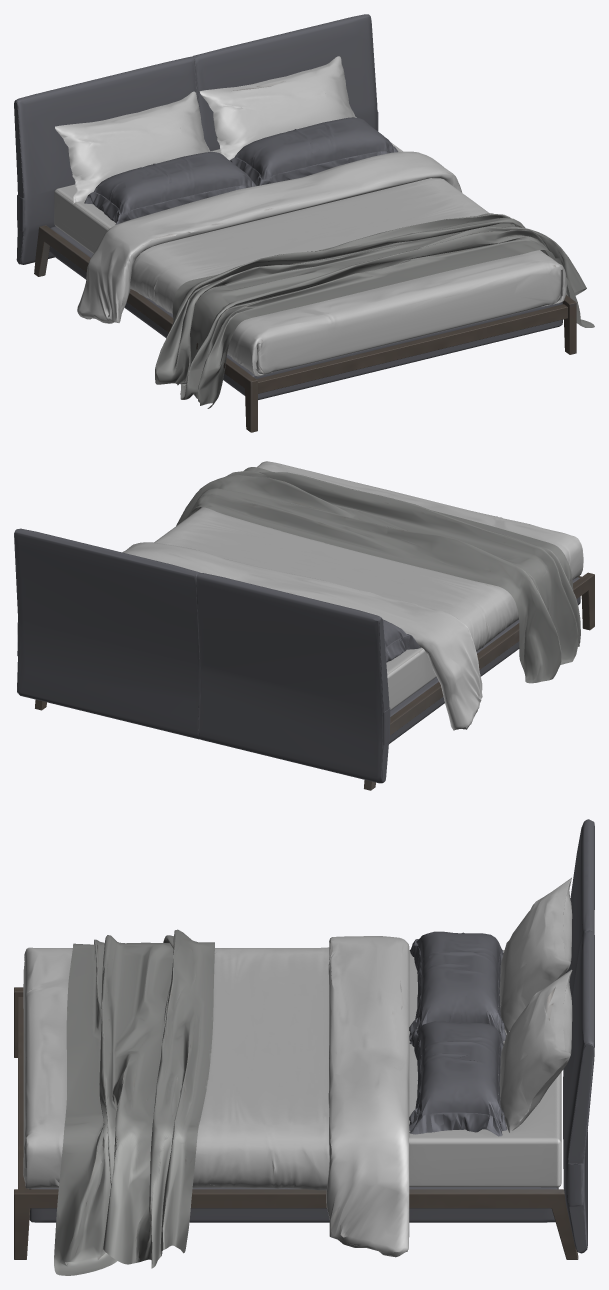
Rendered from raw_model.obj.
3 renders of one model, top to bottom at view 1: azimuth 30°, elevation 25°; view 2: azimuth 150°, elevation 25°; view 3: azimuth 270°, elevation 25°, orthographic. The views are drawn at different scales.
Parts seen in each view (by area): view 1: solid_002, solid_004, solid_001, solid_003; view 2: solid_004, solid_002, solid_001, solid_003; view 3: solid_002, solid_001, solid_004, solid_003.
Part boxes in pixels (<box>): solid_002: <box>54,56,566,376</box>; solid_004: <box>14,14,562,399</box>; solid_001: <box>155,213,594,408</box>; solid_003: <box>34,225,576,432</box>; solid_004: <box>14,528,580,783</box>; solid_002: <box>122,461,583,730</box>; solid_001: <box>176,467,580,683</box>; solid_003: <box>35,572,594,790</box>; solid_002: <box>23,877,572,1257</box>; solid_001: <box>54,929,214,1275</box>; solid_004: <box>29,819,594,1253</box>; solid_003: <box>14,987,578,1259</box>.
Bounding box in the file's own units: 2.23 × 0.9264 × 2.14.
Materials: 1 (1 with a texture image).
